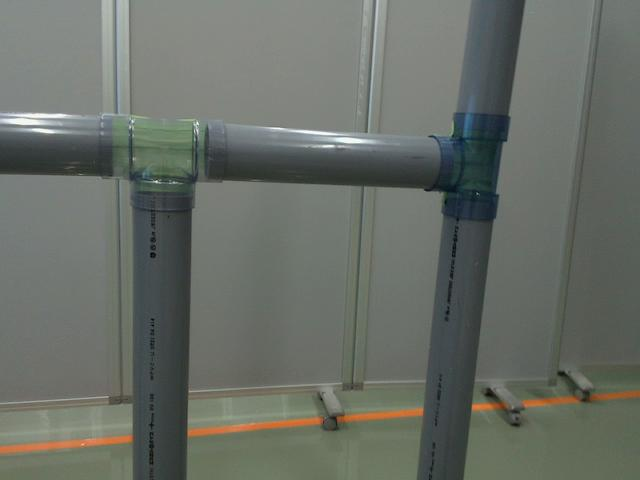junction: (94, 112, 232, 216), (432, 110, 514, 218)
